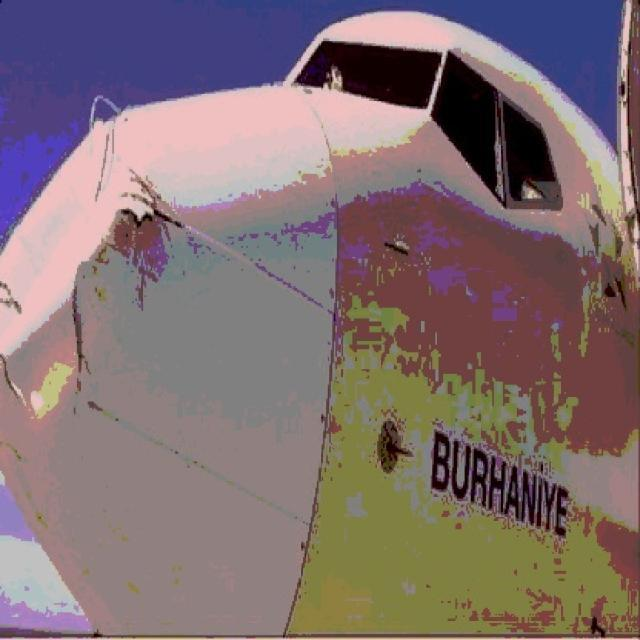dent: (3, 89, 174, 337)
